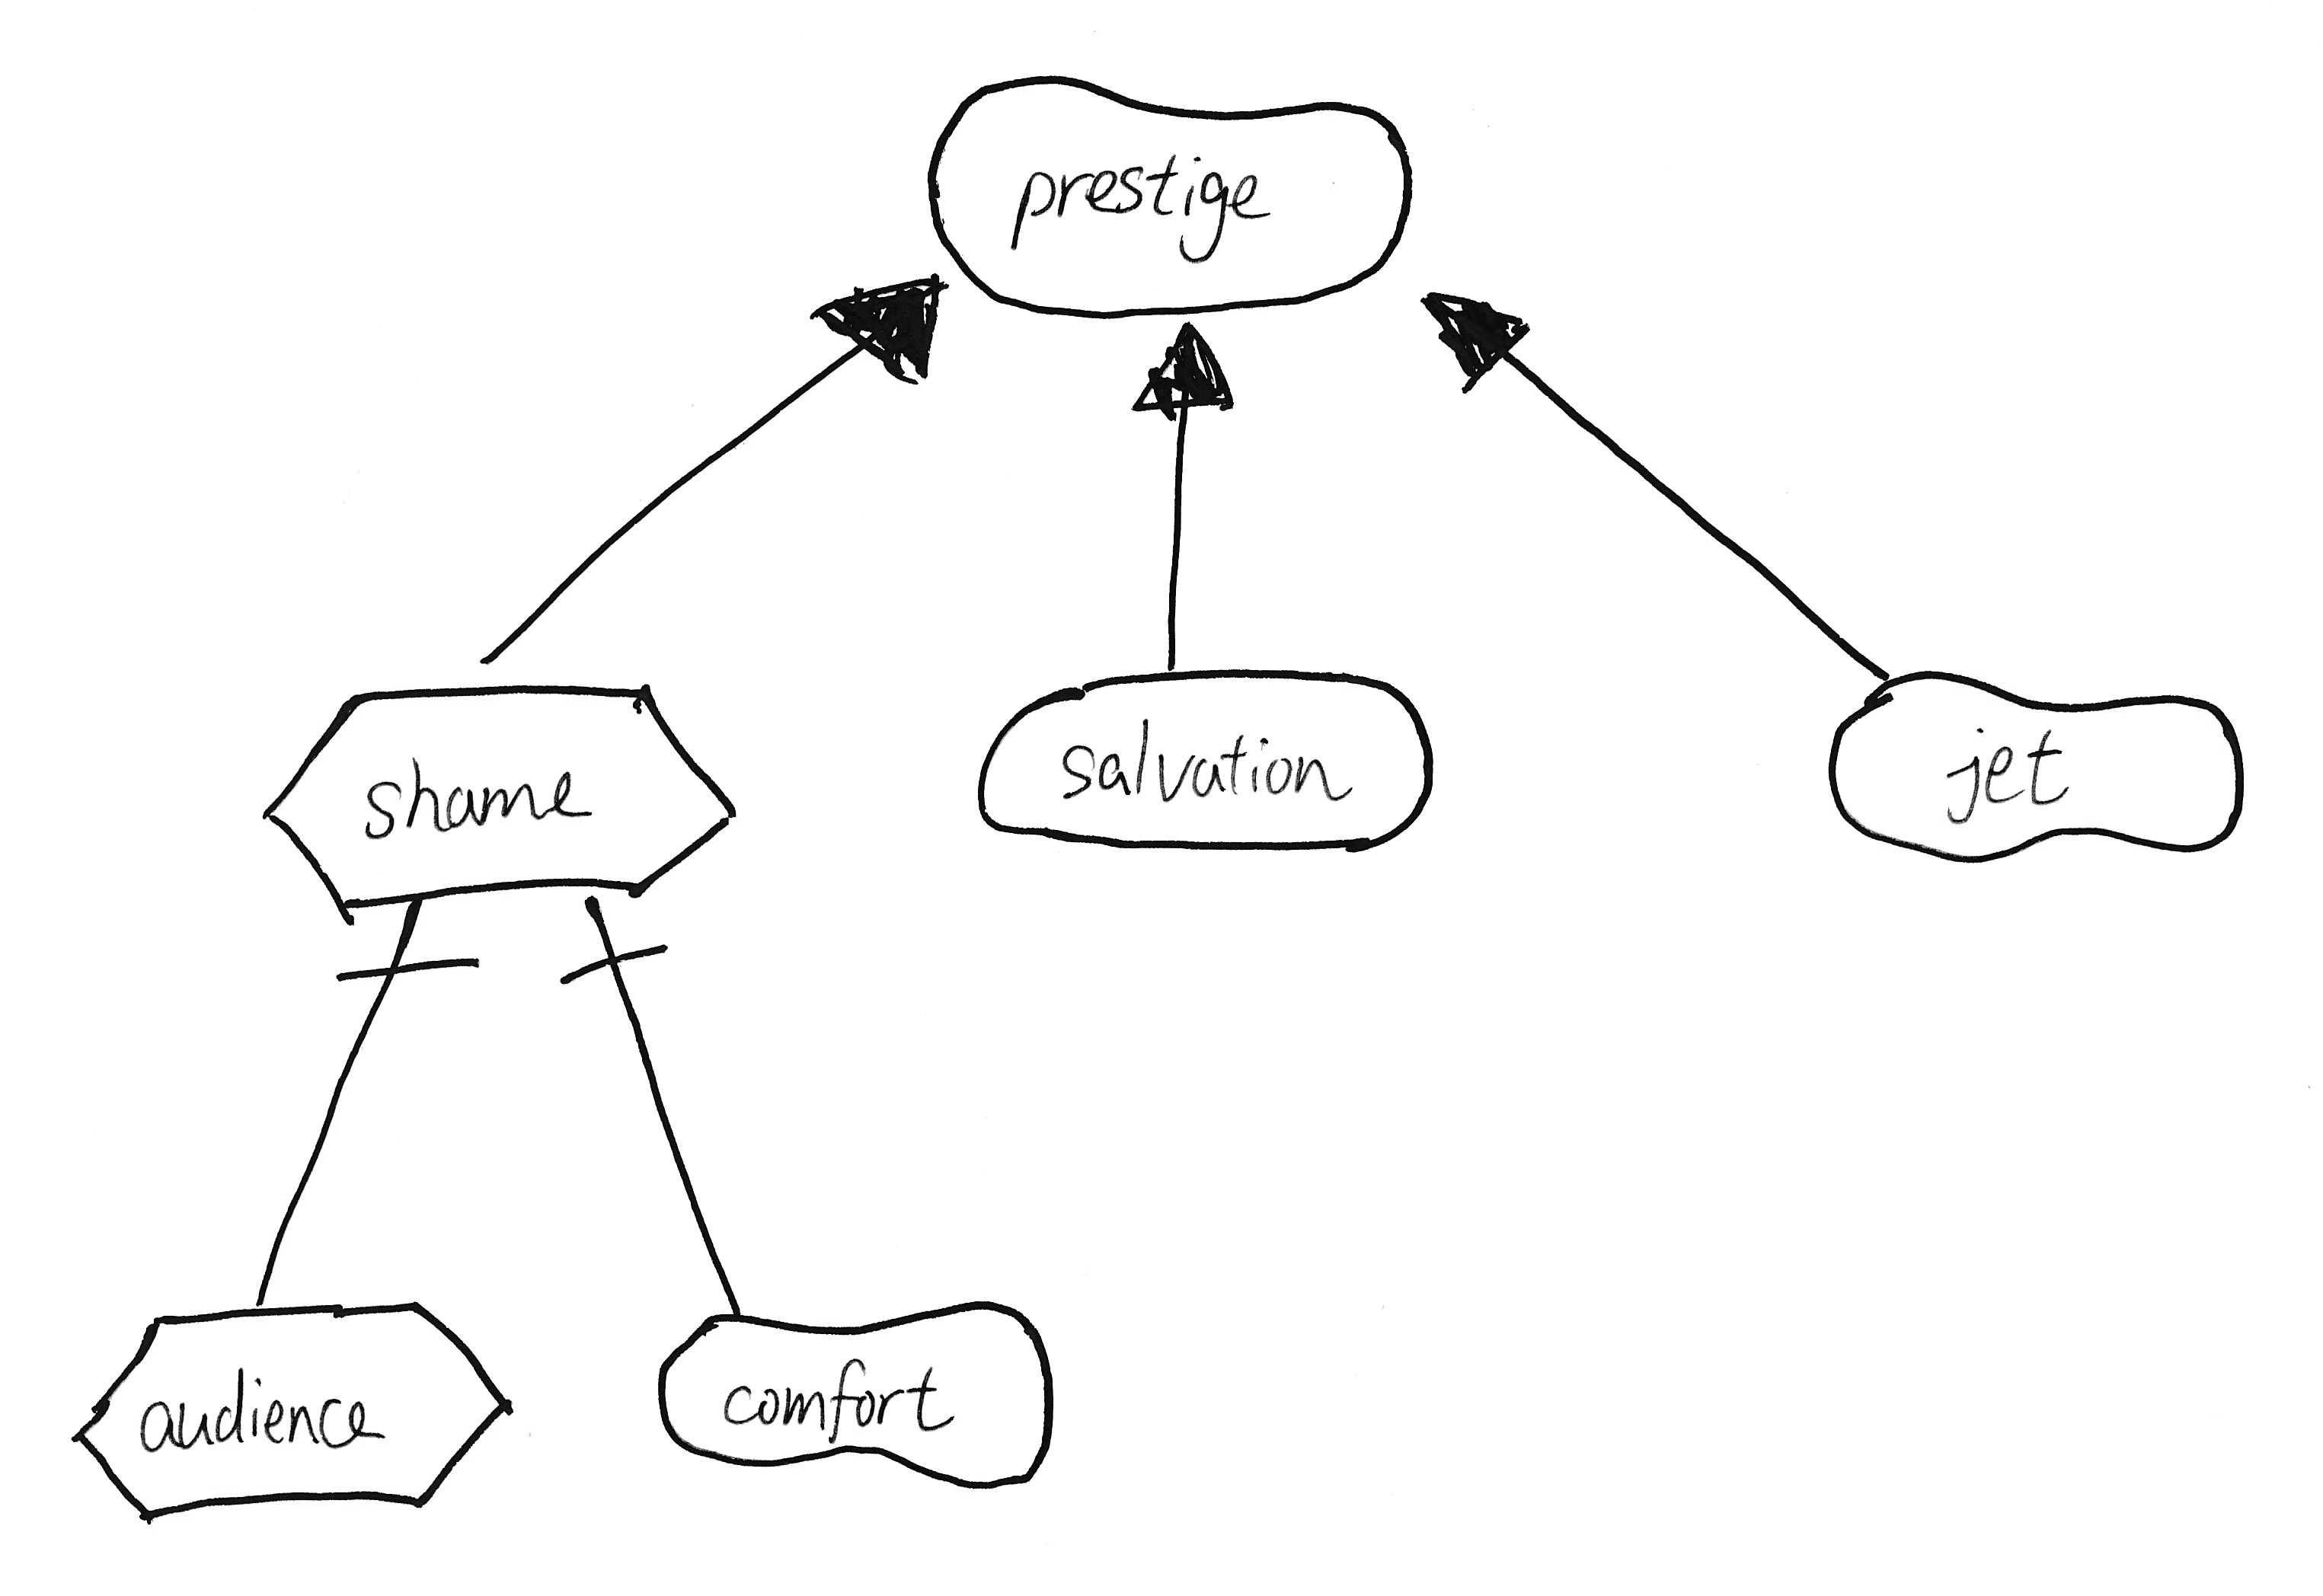and: (314, 915, 503, 1031), (540, 893, 688, 1010)
goal: (967, 650, 1456, 876)
or: (791, 261, 962, 415), (1403, 277, 1546, 401), (1121, 316, 1248, 440)
quality: (914, 55, 1428, 332), (1809, 653, 2279, 877), (635, 1289, 1079, 1502)
task: (247, 664, 747, 930), (60, 1284, 533, 1541)
